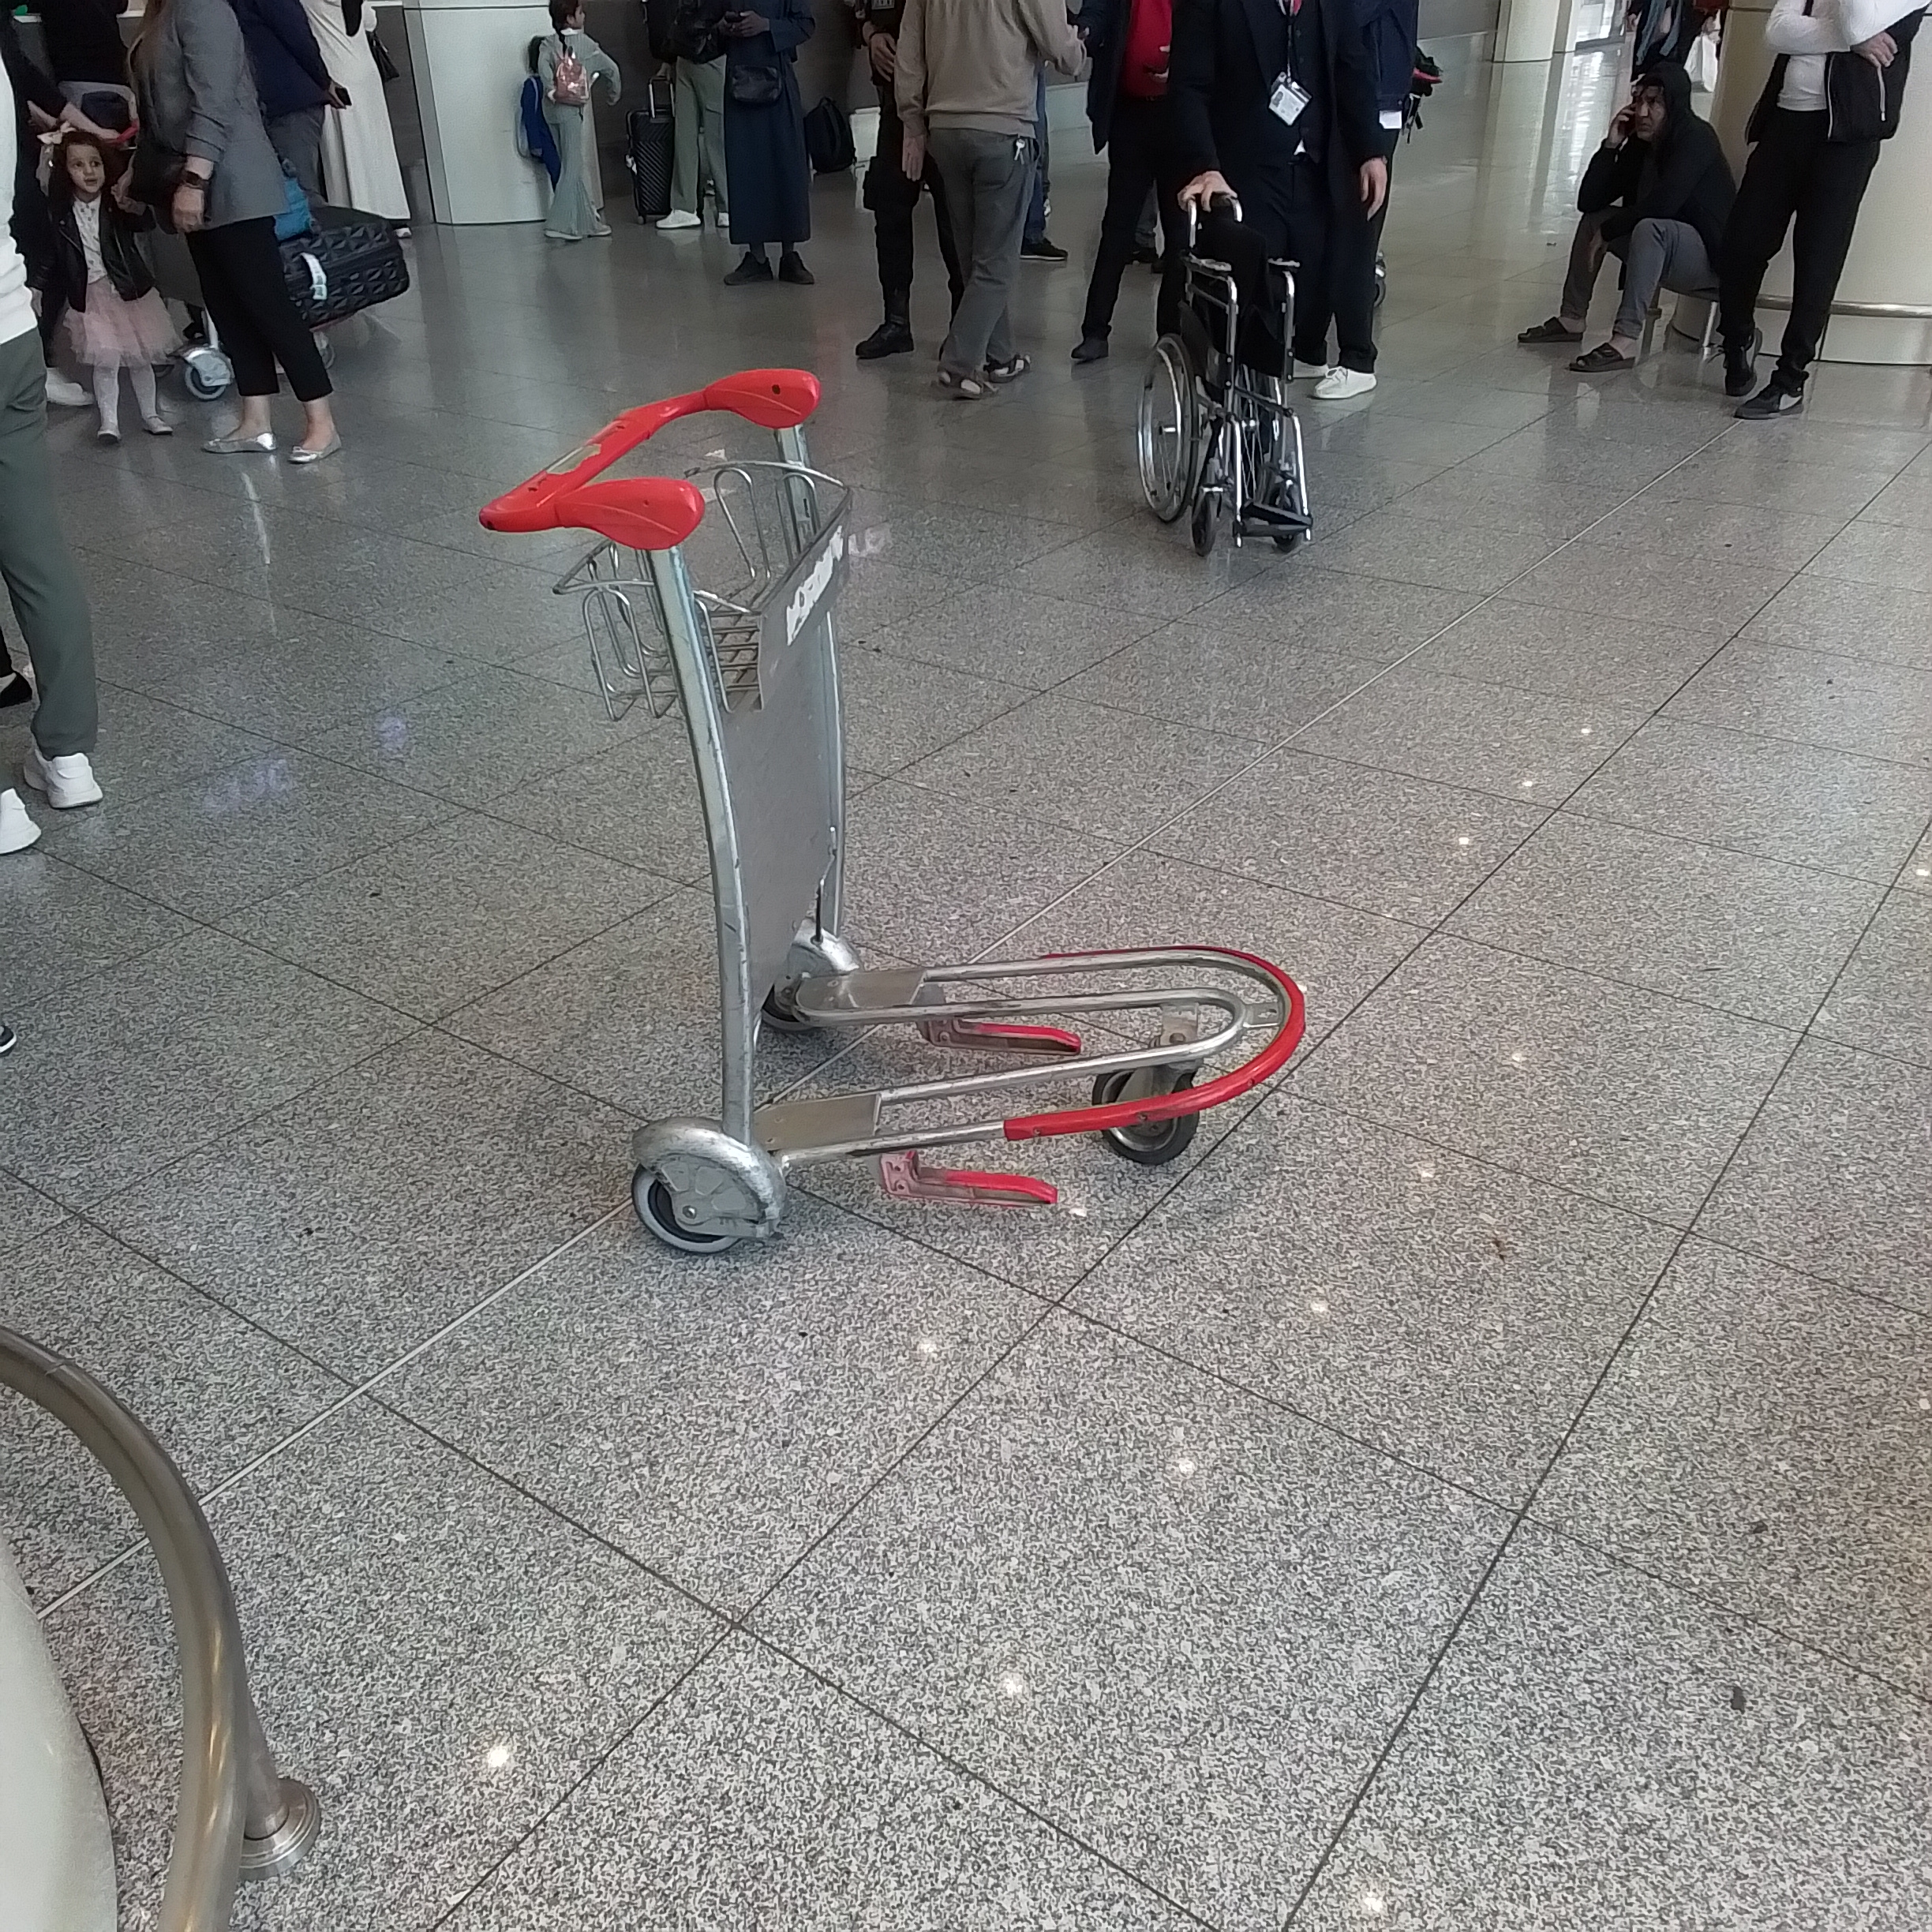airport-trolley: (432, 377, 1327, 1249)
